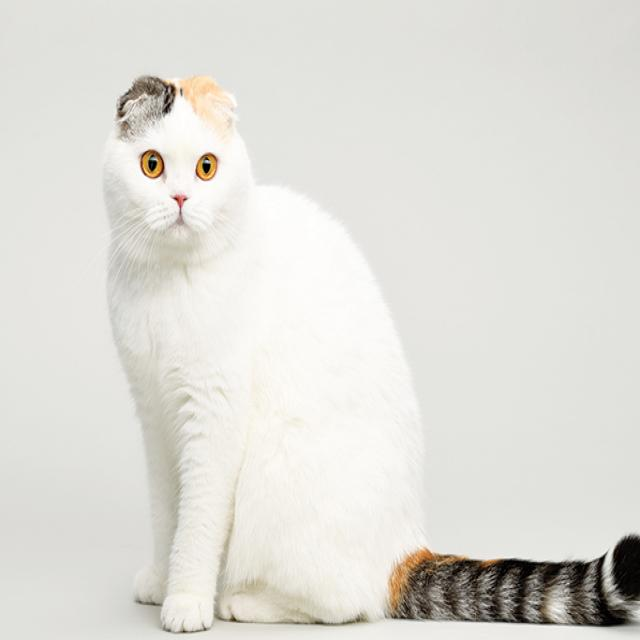Scottish Fold: (98, 63, 639, 640)
